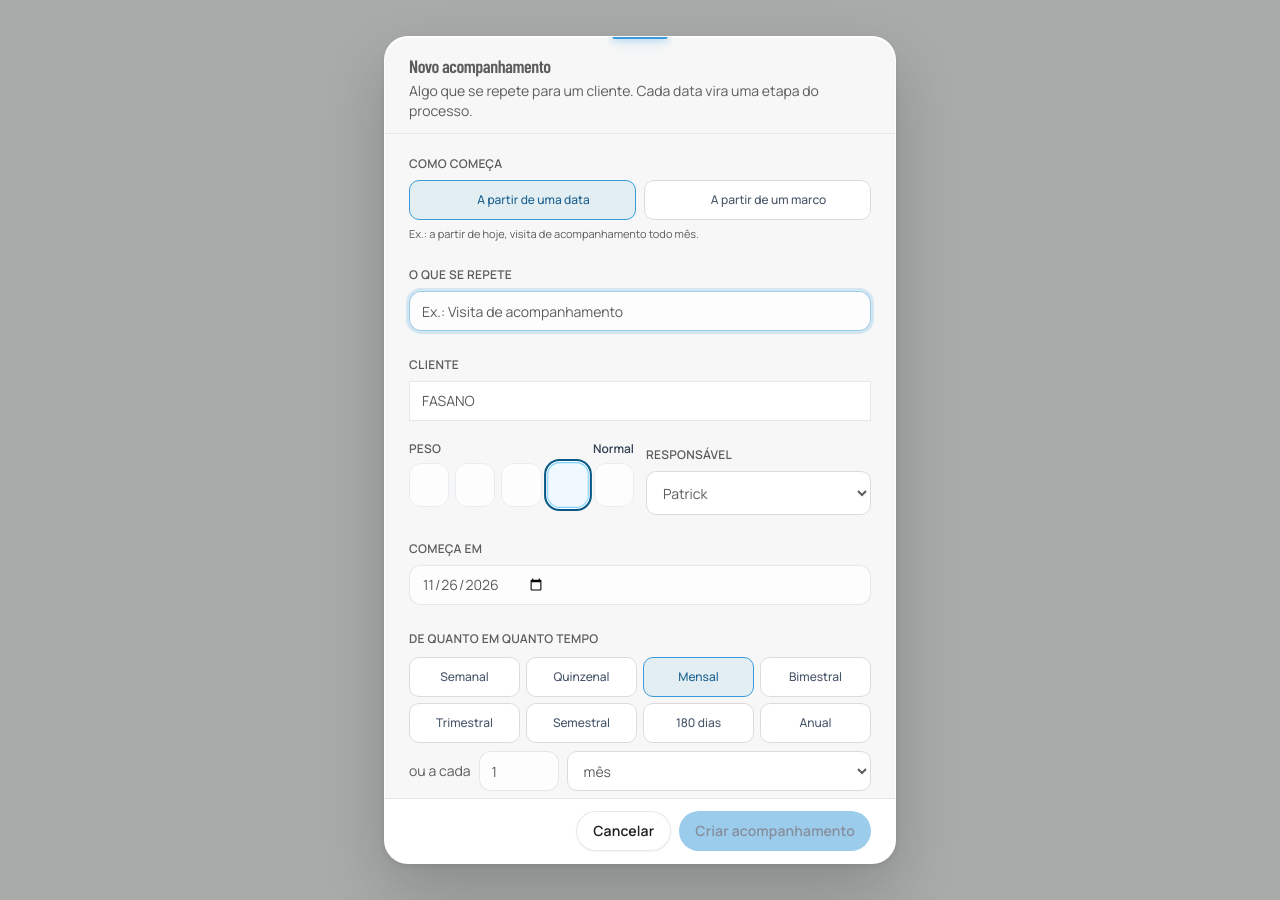
Test case: Novo acompanhamento › lets the past dates count or not
The width and height of the screenshot is (1280, 900).
Later steps or results of the test are not shown.
Click the button "A partir de um marco".
click(758, 200)  # box x1=644 y1=180 x2=871 y2=220
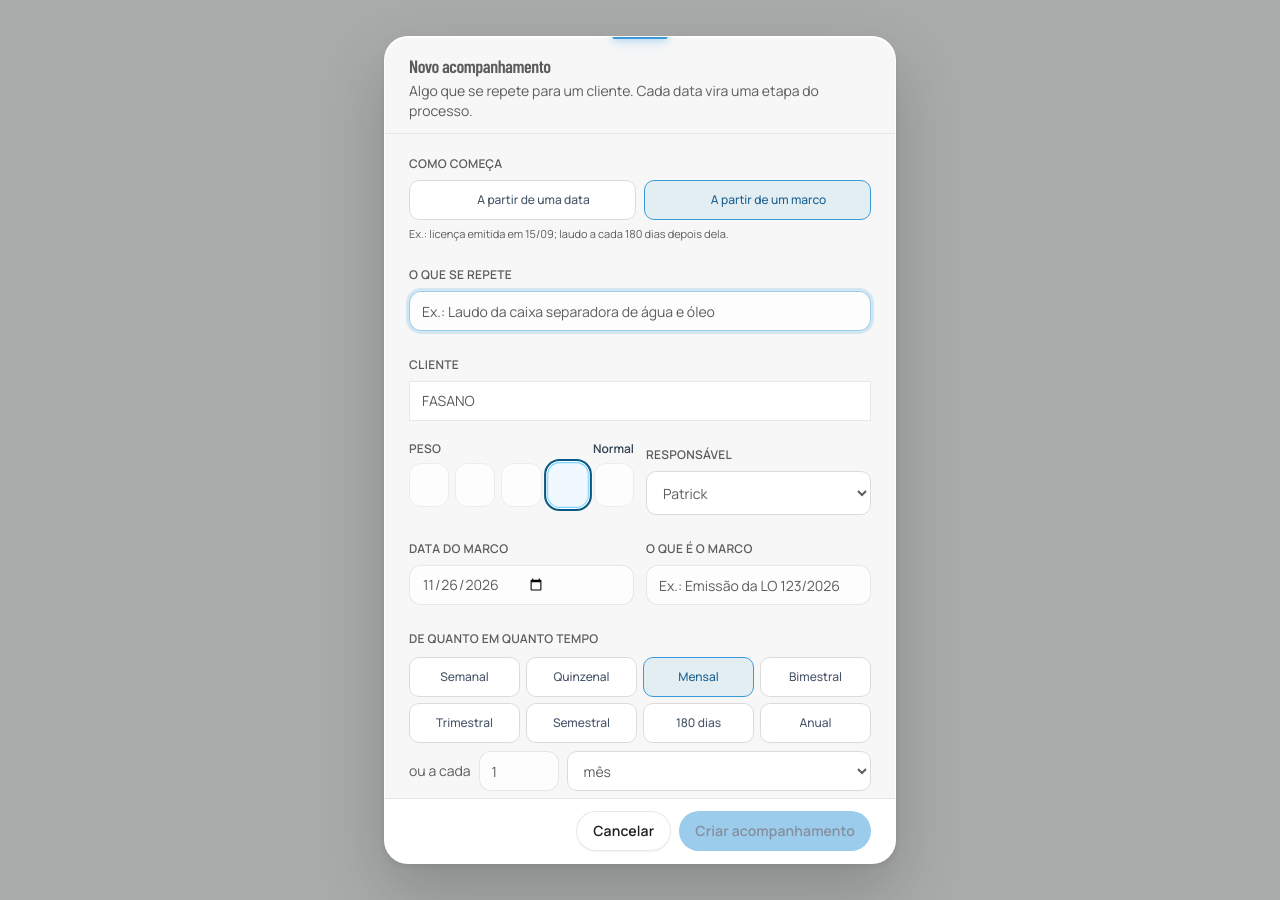
Type "Visita" into the field labelled "O que se repete".
click(640, 311); type("Visita")  # box x1=409 y1=291 x2=871 y2=331
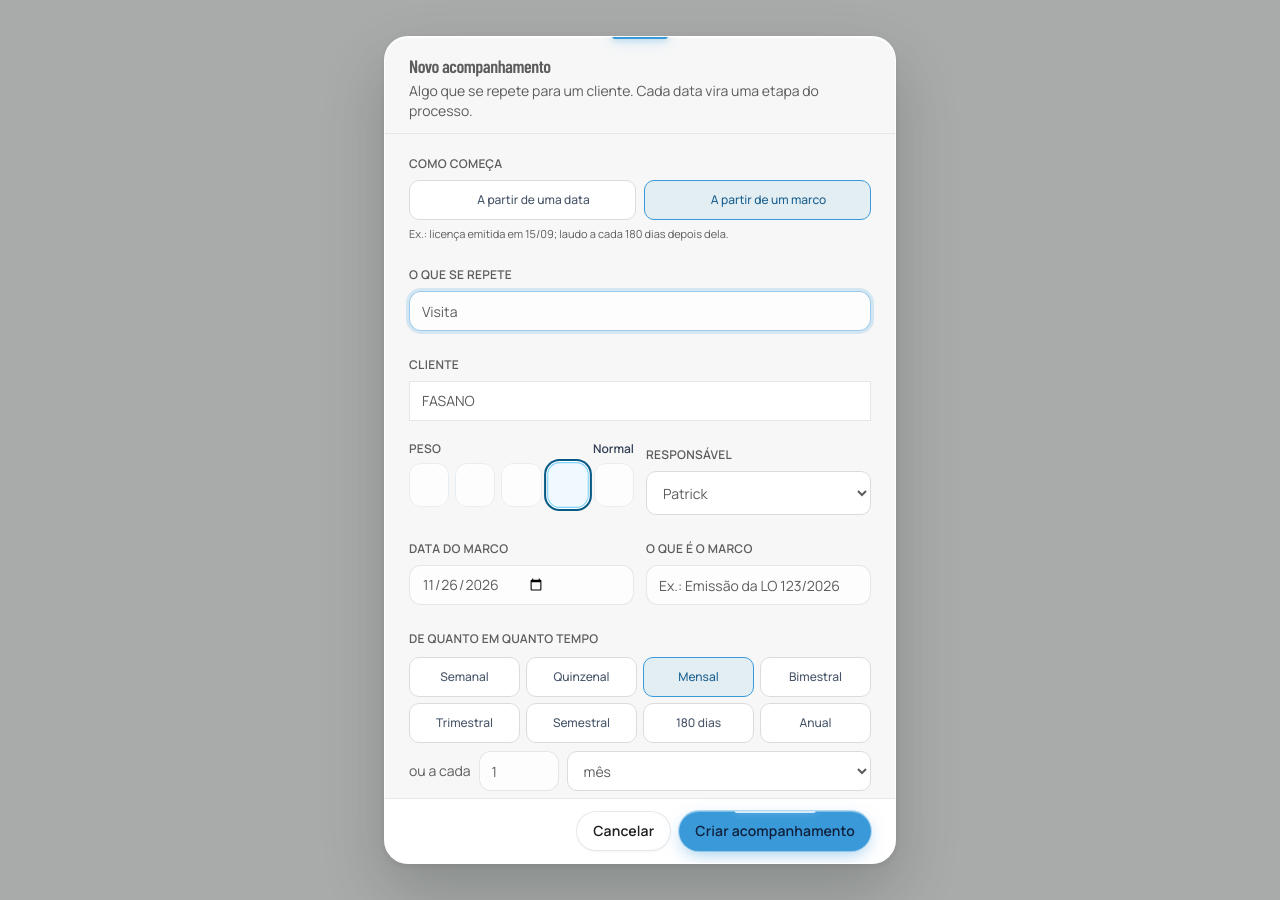
Type "2026-08-01" into the date field labelled "Data do marco".
click(522, 585); type("2026-08-01")  # box x1=409 y1=565 x2=634 y2=605
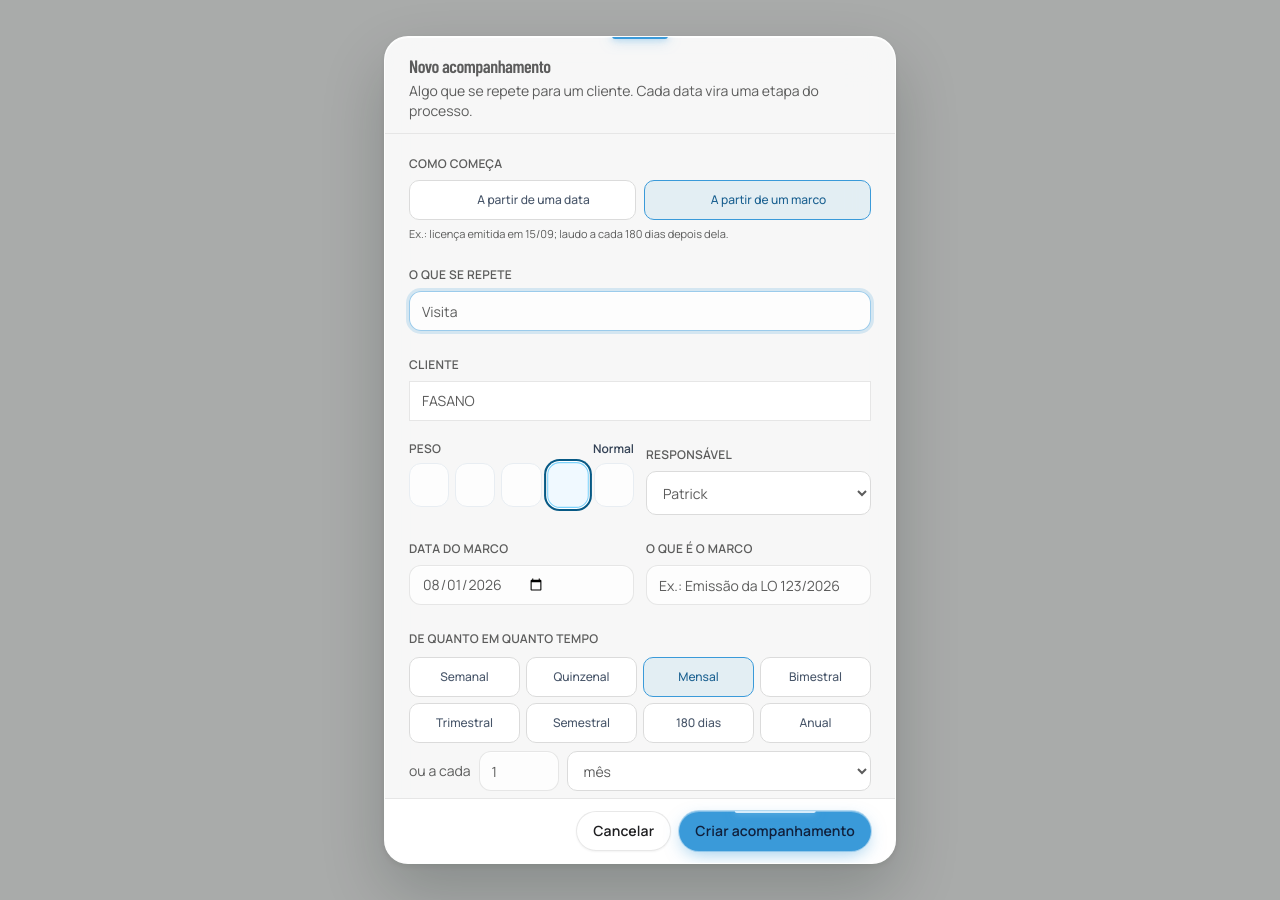
Click the button "Mensal".
click(698, 677)  # box x1=643 y1=657 x2=754 y2=697
(page scrolled)
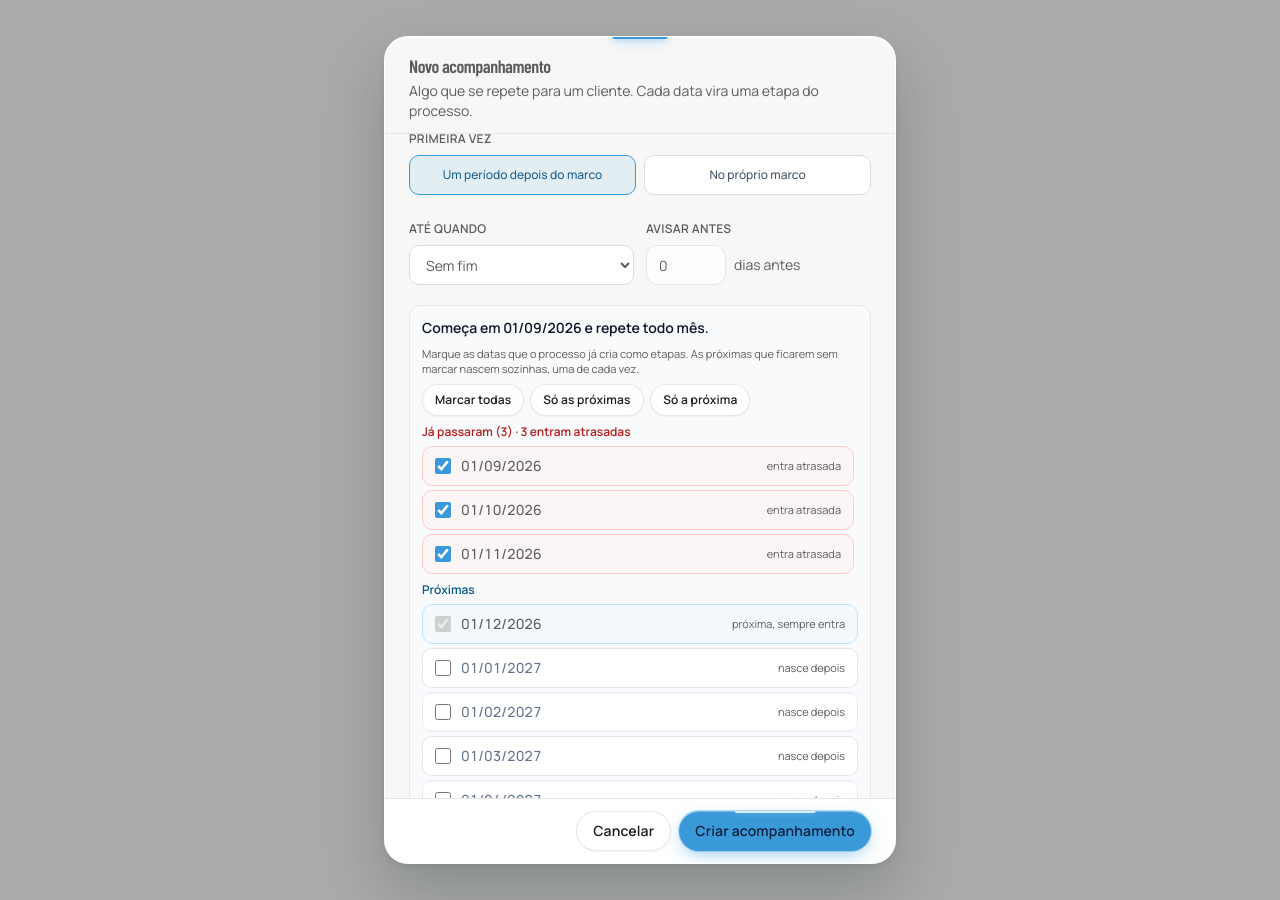
Expected: the text "Já passaram (3) · 3 entram atrasadas" is shown, x1=422 y1=423 x2=631 y2=440
Click the checkbox named "Criar etapa de 01/09/2026".
click(443, 466)  # box x1=435 y1=458 x2=451 y2=474
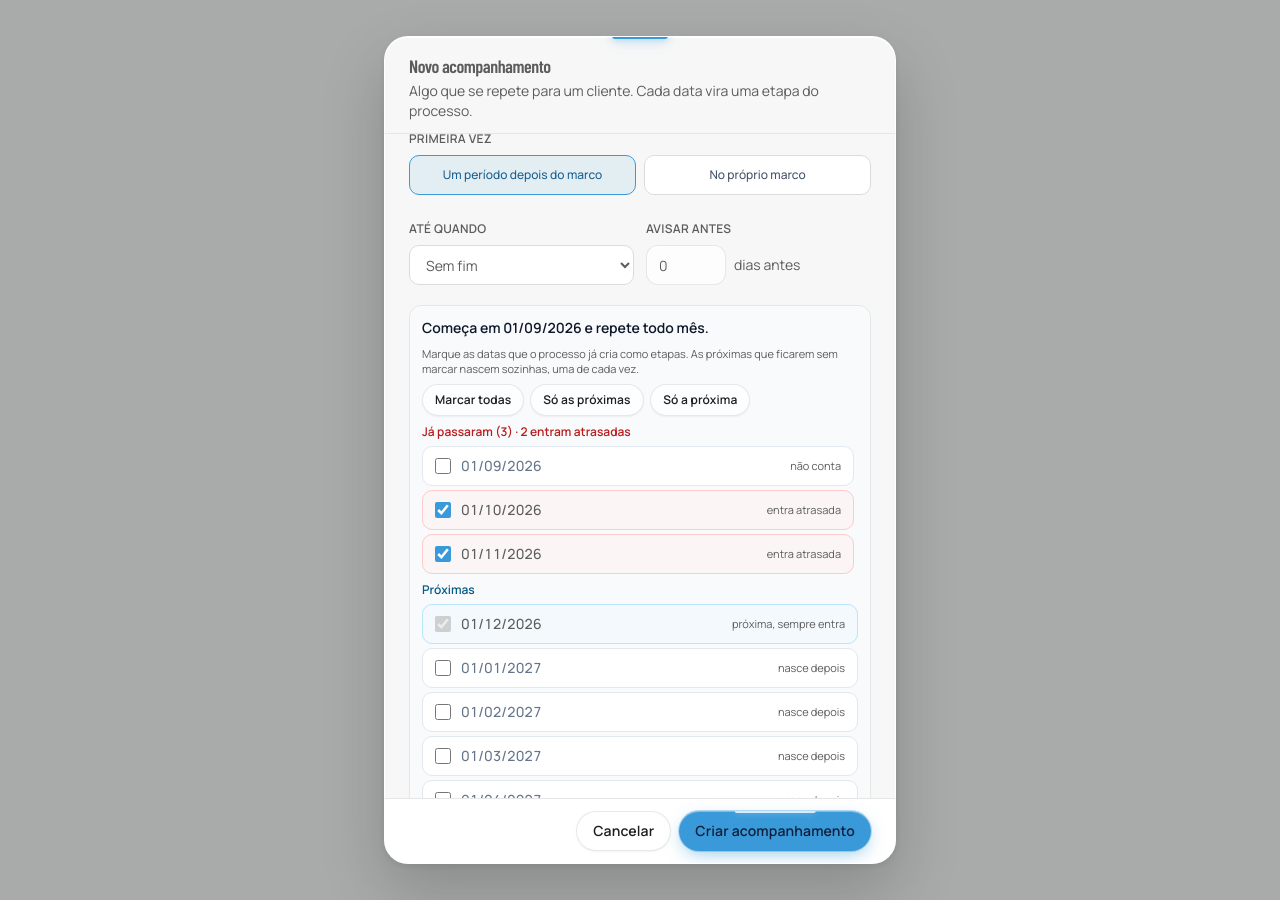
Expected: the checkbox named "Criar etapa de 01/12/2026" is disabled, x1=435 y1=616 x2=451 y2=632
Expected: the text "Já passaram (3) · 2 entram atrasadas" is shown, x1=422 y1=423 x2=631 y2=440
